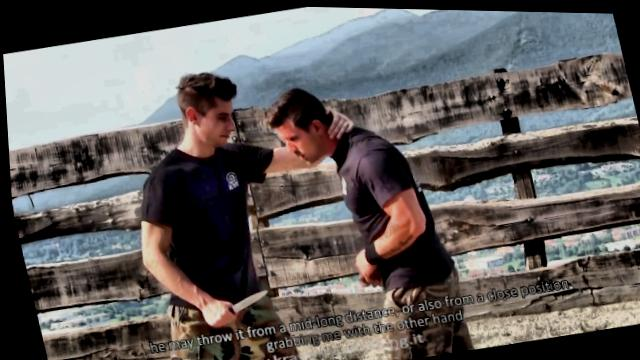knife: (191, 281, 274, 330)
